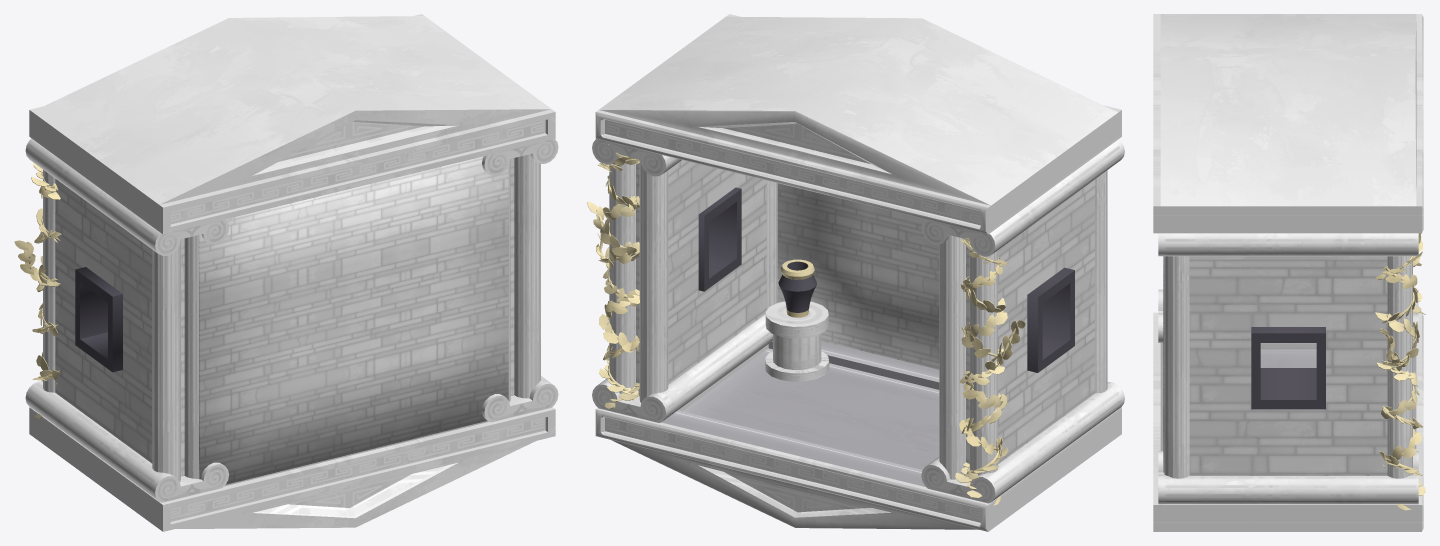
The model's file is CenterRoom.fbx.
3 renders of one model, left to right at view 1: azimuth 30°, elevation 25°; view 2: azimuth 150°, elevation 25°; view 3: azimuth 270°, elevation 25°, orthographic.
Parts seen in each view (by area): view 1: Plane.005; view 2: Plane.005; view 3: Plane.005.
Boxes of the visible parts, bbox=[...] form: Plane.005: bbox=[14, 14, 558, 531]; Plane.005: bbox=[587, 14, 1124, 531]; Plane.005: bbox=[1153, 14, 1425, 531].
Bounding box in the file's own units: 6060 × 5421 × 3196.
2 materials, 2 textured.
